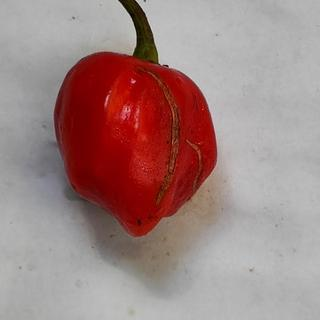Fly-bites: (134, 217, 144, 226)
striped: (129, 63, 186, 213), (183, 135, 208, 197)
